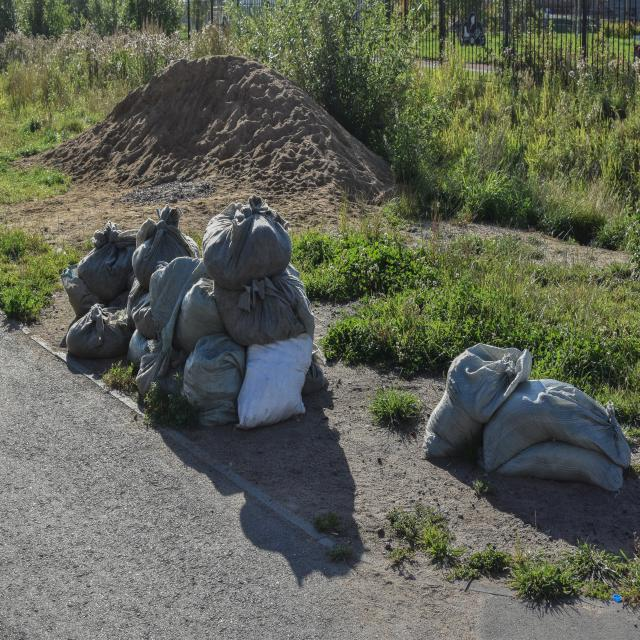entulho: (126, 187, 330, 432), (418, 332, 635, 501), (58, 212, 144, 367)
